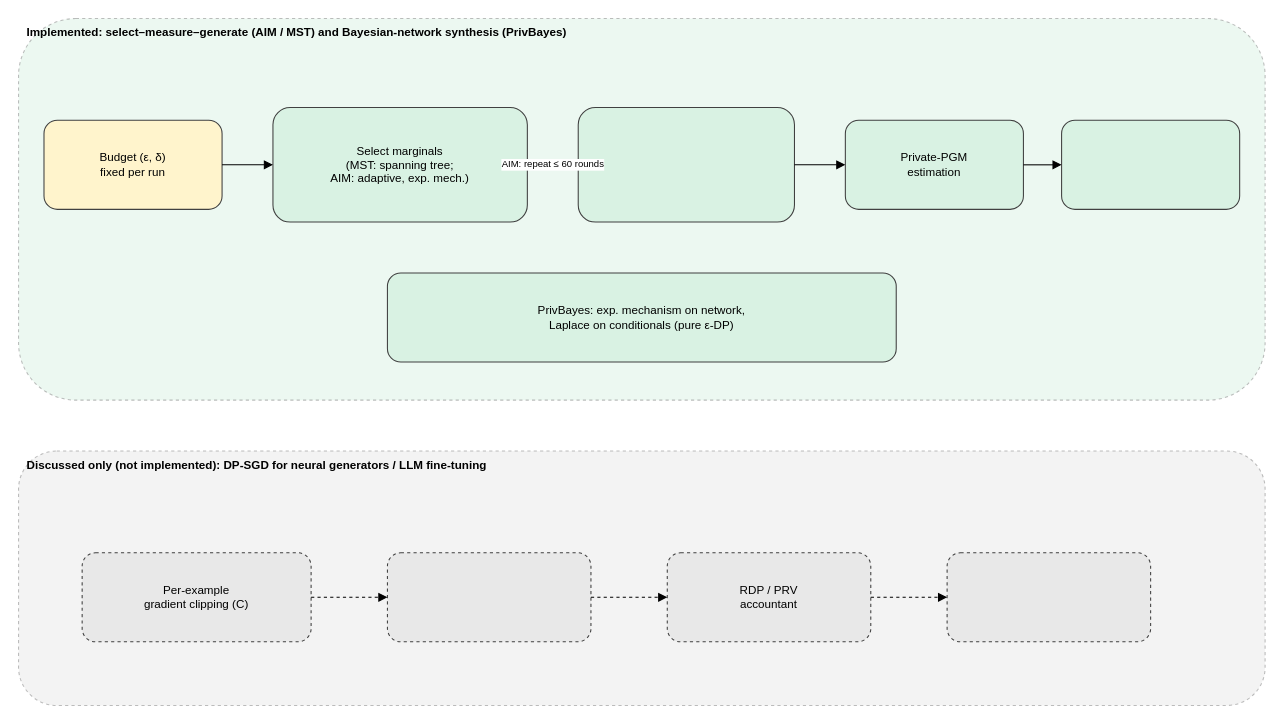
Some shapes in this 1284 by 724 pixel diagram are drawn without their labels. Each missing label, with the centre of its shape:
Add N(0, σ²C²I): pixel 488 597
Measure with Gaussian noise (zCDP accounting): pixel 685 164
Model update: pixel 1048 597
Sample synthetic records: pixel 1150 164
